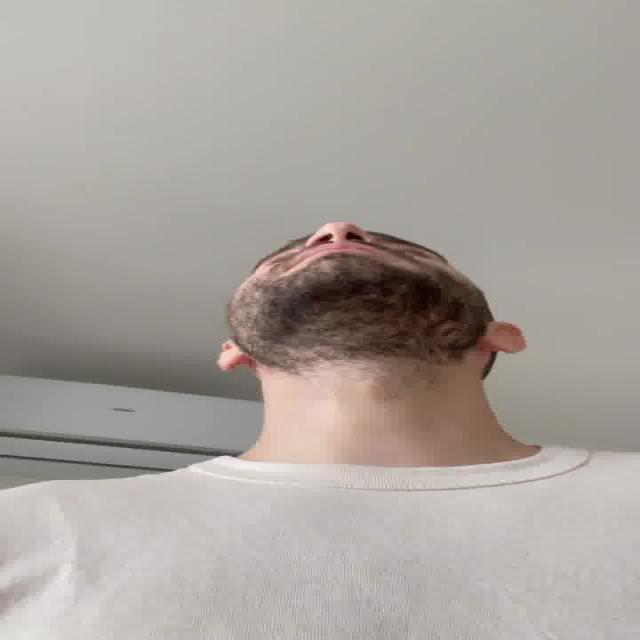earlobe: (478, 339, 520, 354), (216, 354, 246, 372)
eye: (391, 242, 435, 258), (258, 251, 300, 266)
nose: (307, 237, 373, 247)
wholeear: (479, 320, 530, 352), (217, 339, 250, 372)
